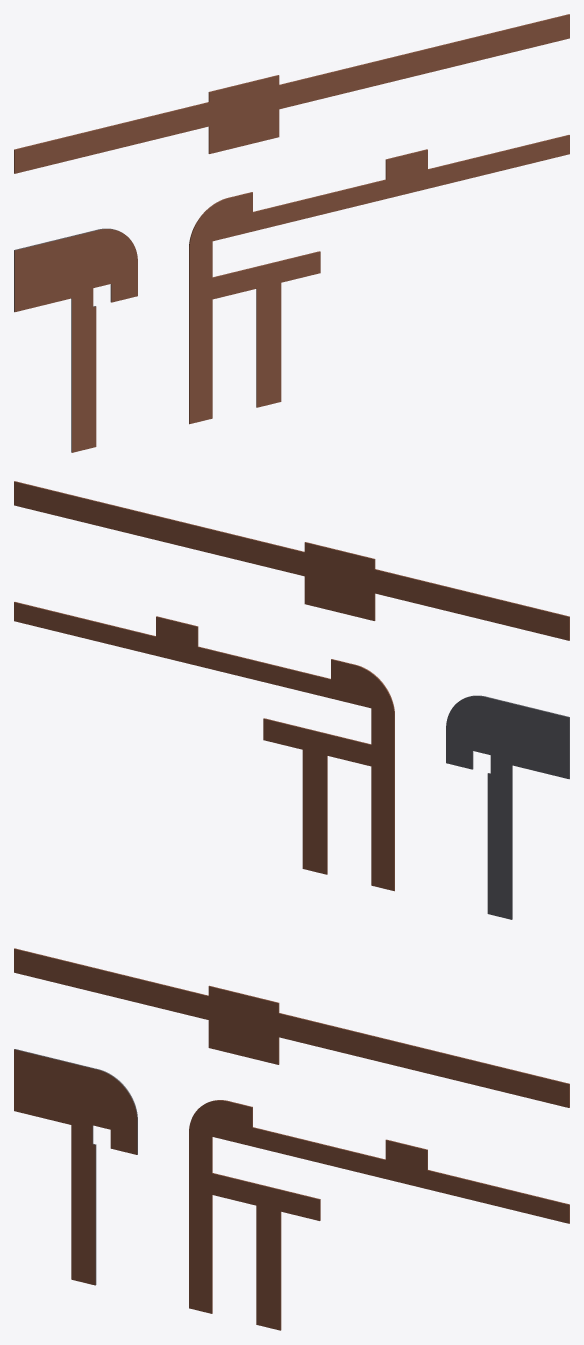
The model's file is roadForPeople.obj.
3 renders of one model, top to bottom at view 1: azimuth 30°, elevation 25°; view 2: azimuth 150°, elevation 25°; view 3: azimuth 330°, elevation 25°, orthographic.
Visible parts, largest first — view 1: ____12, ____09, ___-__; view 2: ____12, ____09, ___-__; view 3: ____12, ____09, ___-__.
Part boxes in pixels (bbox=[...]): ____12: bbox=[189, 135, 569, 424]; ____09: bbox=[14, 14, 569, 173]; ___-__: bbox=[14, 228, 137, 452]; ____12: bbox=[14, 602, 394, 891]; ____09: bbox=[14, 481, 569, 640]; ___-__: bbox=[446, 695, 569, 919]; ____12: bbox=[189, 1100, 569, 1330]; ____09: bbox=[14, 948, 569, 1107]; ___-__: bbox=[14, 1049, 137, 1285].
Bounding box in the file's own units: 46.19 × 25.99 × 0.1.
